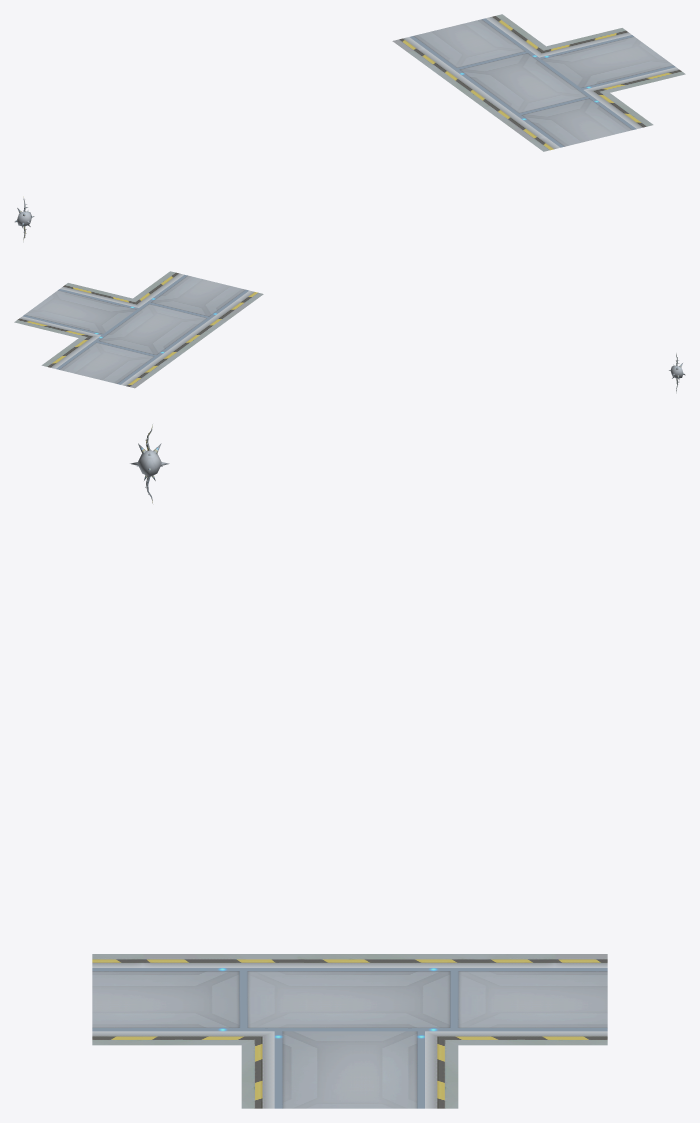
Rendered from Combined_Mesh_root_scene__15_7f71ba4d__ZombiesII_laboratory_05_d_57b6b985_c1f257.obj.
3 renders of one model, top to bottom at view 1: azimuth 30°, elevation 25°; view 2: azimuth 150°, elevation 25°; view 3: azimuth 270°, elevation 25°, orthographic. The views are drawn at different scales.
Bounding box in the file's own units: 53.26 × 4.89 × 20.
Materials: 2 (2 with a texture image).
